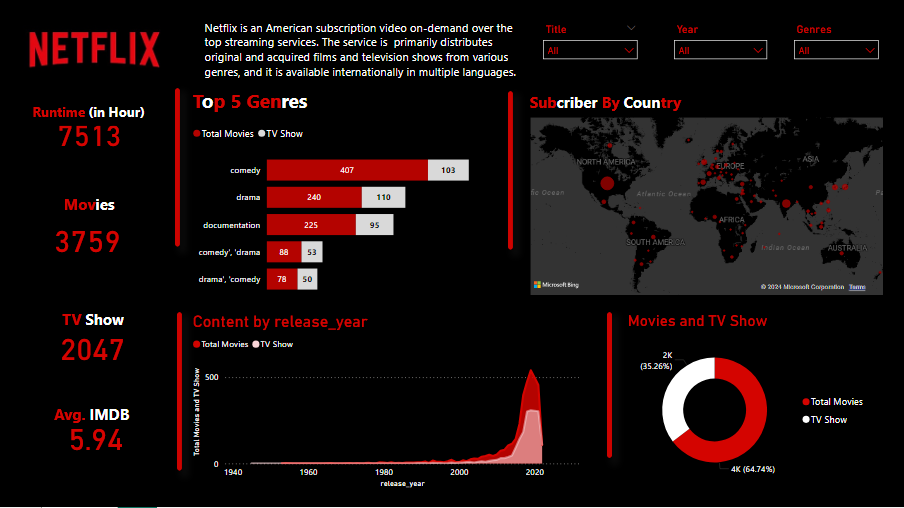

Layout of this report page (visuals, bound fields, positions):
{"tool":"powerbi","page":{"name":"Page 1","canvas":[1280,720],"ordinal":0},"visuals":[{"type":"slicer","fields":{"Values":["titles.title"]},"box":[759.7,28.3,154.5,78],"z":0},{"type":"slicer","fields":{"Values":["titles.genres"]},"box":[1115.4,28.3,140.3,78],"z":1000},{"type":"slicer","fields":{"Values":["titles.release_year"]},"box":[945.4,28.3,151.7,78],"z":2000},{"type":"textbox","box":[284.9,24.1,474.8,93.5],"z":3000},{"type":"image","box":[0,0,267.9,137.5],"z":4000},{"type":"card","fields":{"Values":["Key Measures.Avg IMDB"]},"box":[21.3,588.2,226.8,62.4],"z":5000},{"type":"donutChart","title":"Movies and TV Show","fields":{"Y":["Key Measures.Total Movies","Key Measures.TV Show"]},"box":[884.4,443.6,352.9,253.7],"z":6000},{"type":"card","fields":{"Values":["Key Measures.Runtime Hour"]},"box":[12.8,130.4,226.8,117.6],"z":7000},{"type":"textbox","box":[21.3,141.7,208.3,38.3],"z":8000},{"type":"barChart","fields":{"Y":["Key Measures.Total Movies","Key Measures.TV Show"],"Category":["titles.genres"]},"box":[267.9,170.1,452.1,263.6],"z":9000},{"type":"textbox","box":[267.9,120.5,198.4,46.8],"z":10000},{"type":"areaChart","title":"Content by release_year","fields":{"Y":["Key Measures.Total Movies","Key Measures.TV Show"],"Category":["titles.release_year","titles.release_year Hierarchy.release_year"]},"box":[267.9,443.6,561.3,253.7],"z":11000},{"type":"map","fields":{"Category":["titles.production_countries","titles.runtime"],"Size":["Key Measures.Total Content"]},"box":[745.5,161.6,510.2,262.2],"z":12000},{"type":"card","fields":{"Values":["Key Measures.Total Movies"]},"box":[36.9,311.8,172.9,55.3],"z":13000},{"type":"card","fields":{"Values":["Key Measures.TV Show"]},"box":[21.3,464.9,218.3,53.9],"z":14000},{"type":"textbox","box":[52.4,270.7,147.4,41.1],"z":15000},{"type":"textbox","box":[63.8,433.7,136.1,41.1],"z":16000},{"type":"textbox","box":[49.6,568.3,160.2,41.1],"z":17000},{"type":"shape","box":[250.9,443.6,7.1,225.4],"z":18000},{"type":"shape","box":[860.3,443.6,7.1,206.9],"z":19000},{"type":"shape","box":[720,130.4,7.1,225.4],"z":20000},{"type":"shape","box":[248,126.1,7.1,225.4],"z":21000},{"type":"textbox","box":[745.5,126.1,243.8,41.1],"z":22000}]}

Visuals, with their boxes in screenshot pixels (x1, y1, x2, y2), scaled from the page's 1280x720 canvas onto the 904x508 screenshot:
slicer - titles.title: bbox(537, 20, 646, 75)
slicer - titles.genres: bbox(788, 20, 887, 75)
slicer - titles.release_year: bbox(668, 20, 775, 75)
textbox: bbox(201, 17, 537, 83)
image: bbox(0, 0, 189, 97)
card - Key Measures.Avg IMDB: bbox(15, 415, 175, 459)
"Movies and TV Show" donutChart: bbox(625, 313, 874, 492)
card - Key Measures.Runtime Hour: bbox(9, 92, 169, 175)
textbox: bbox(15, 100, 162, 127)
barChart - Key Measures.Total Movies x Key Measures.TV Show: bbox(189, 120, 509, 306)
textbox: bbox(189, 85, 329, 118)
"Content by release_year" areaChart: bbox(189, 313, 586, 492)
map - titles.production_countries x titles.runtime: bbox(527, 114, 887, 299)
card - Key Measures.Total Movies: bbox(26, 220, 148, 259)
card - Key Measures.TV Show: bbox(15, 328, 169, 366)
textbox: bbox(37, 191, 141, 220)
textbox: bbox(45, 306, 141, 335)
textbox: bbox(35, 401, 148, 430)
shape: bbox(177, 313, 182, 472)
shape: bbox(608, 313, 613, 459)
shape: bbox(509, 92, 514, 251)
shape: bbox(175, 89, 180, 248)
textbox: bbox(527, 89, 699, 118)
